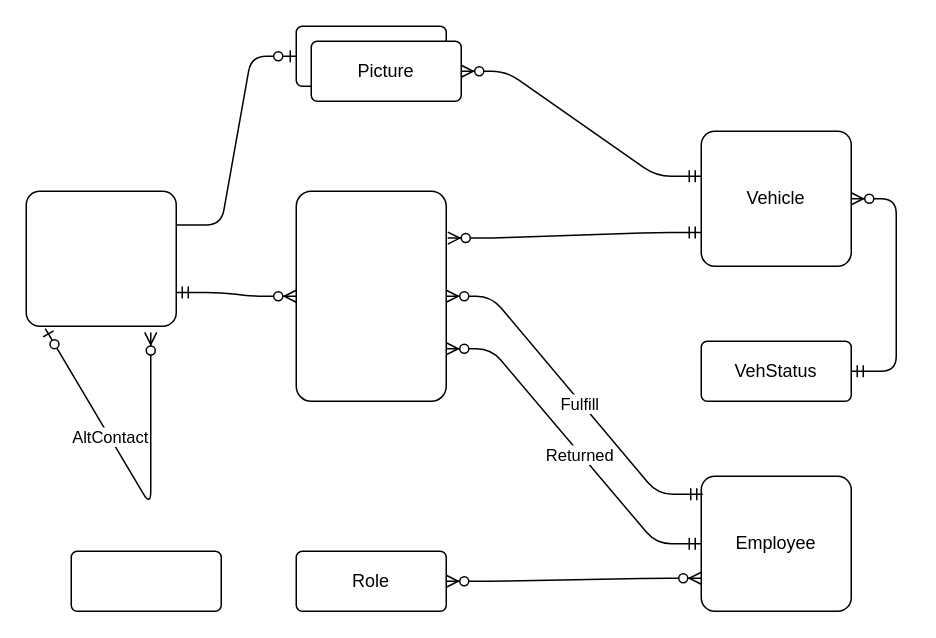
Some shapes in this 936 by 638 pixel diagram are drawn without their labels. The shapes that lost their labels are listed below. From the top down, each one's centre as x and y in pixels, then its label:
At (100,258): "Customer".
At (370,295): "Hire".
At (145,580): "Configurations".
